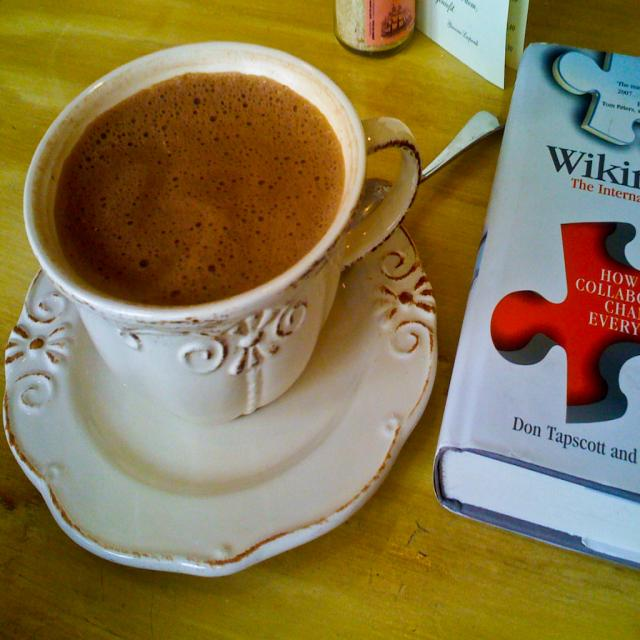Coffee: (50, 72, 348, 304)
Tea: (51, 68, 344, 304)
